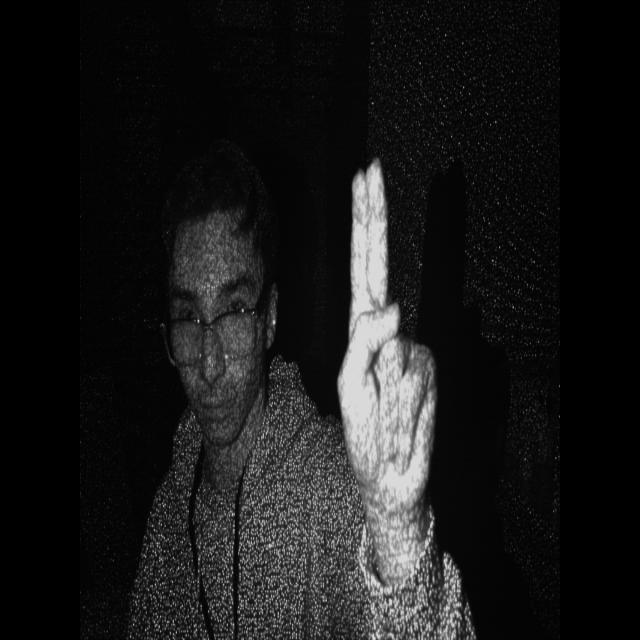U: (331, 143, 448, 516)
